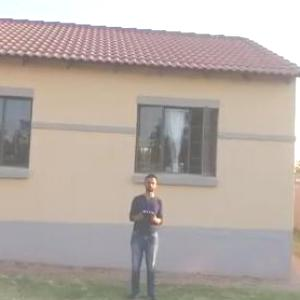follow: (121, 166, 166, 299)
